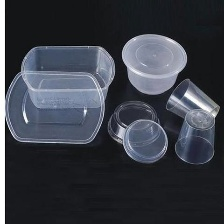plastic_box: (5, 33, 118, 149), (117, 28, 192, 99), (103, 96, 173, 167), (161, 73, 224, 129), (171, 104, 220, 168)
